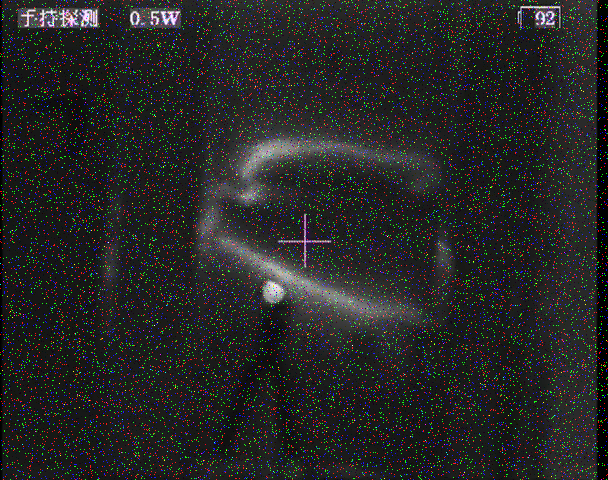my: (261, 278, 285, 303)
